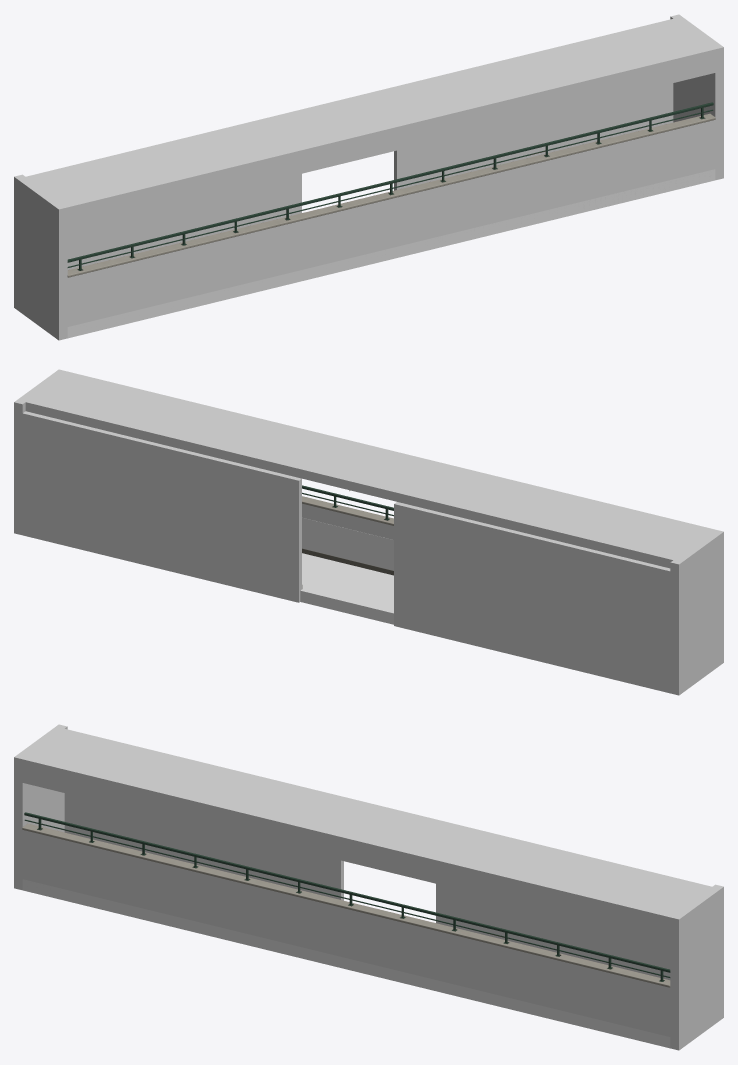
The model's file is HomeCorridor.fbx.
3 renders of one model, top to bottom at view 1: azimuth 30°, elevation 25°; view 2: azimuth 150°, elevation 25°; view 3: azimuth 330°, elevation 25°, orthographic.
Visible parts, largest first — view 1: HomeCorridor_Walls, HomeCorridor_Trim, HomeCorridor_Floor; view 2: HomeCorridor_Walls, HomeCorridor_Floor, HomeCorridor_Wainscot, HomeCorridor_Trim; view 3: HomeCorridor_Walls, HomeCorridor_Trim, HomeCorridor_Floor.
Part boxes in pixels (<box>): HomeCorridor_Walls: <box>14,14,723,340</box>; HomeCorridor_Trim: <box>67,102,715,277</box>; HomeCorridor_Floor: <box>67,169,715,338</box>; HomeCorridor_Walls: <box>14,369,723,695</box>; HomeCorridor_Floor: <box>300,553,393,624</box>; HomeCorridor_Wainscot: <box>302,517,393,570</box>; HomeCorridor_Trim: <box>302,485,393,588</box>; HomeCorridor_Walls: <box>14,724,723,1050</box>; HomeCorridor_Trim: <box>22,812,670,987</box>; HomeCorridor_Floor: <box>22,879,670,1048</box>.
Size of what is drawn, in the model's own units: 15.4 by 2.9 by 1.82.
